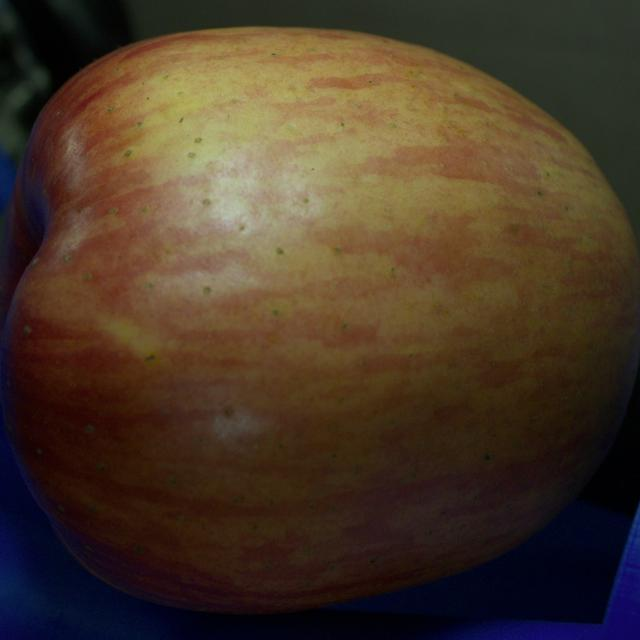apple: (0, 28, 639, 613)
